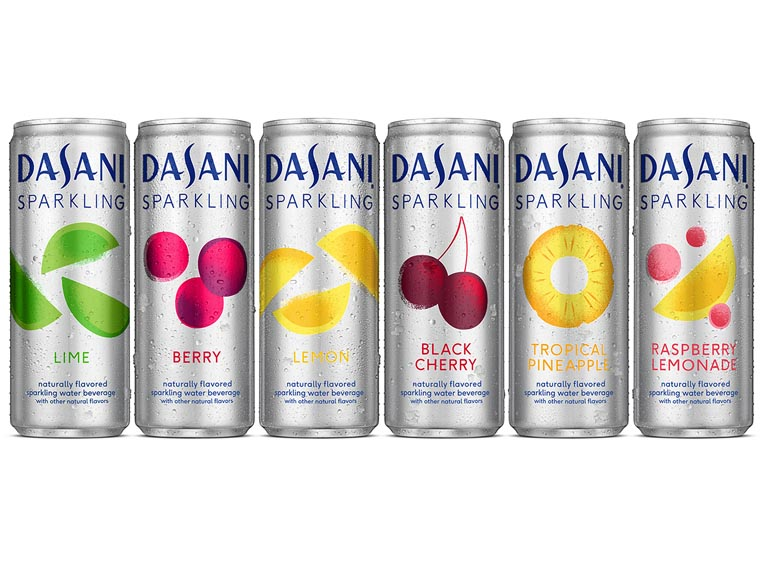blackcherry: (387, 215, 504, 381)
lemon: (258, 222, 378, 373)
lemonade: (637, 223, 751, 380)
lime: (9, 222, 129, 376)
pineapple: (511, 220, 628, 378)
